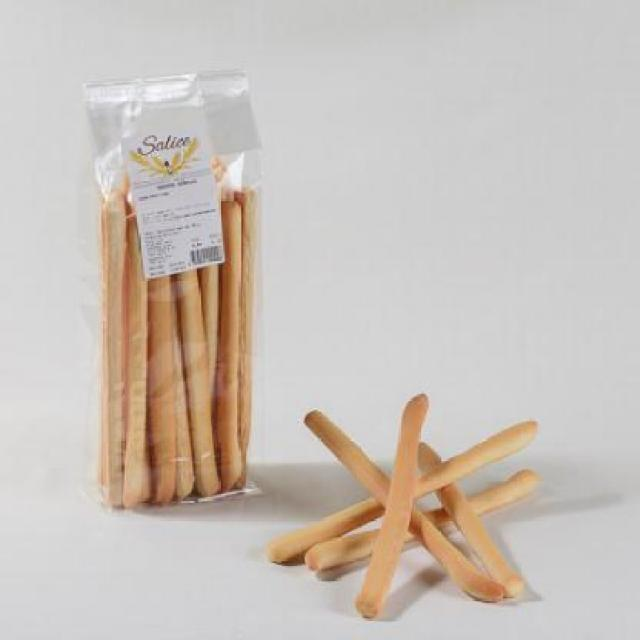Grissini: (268, 392, 546, 622)
